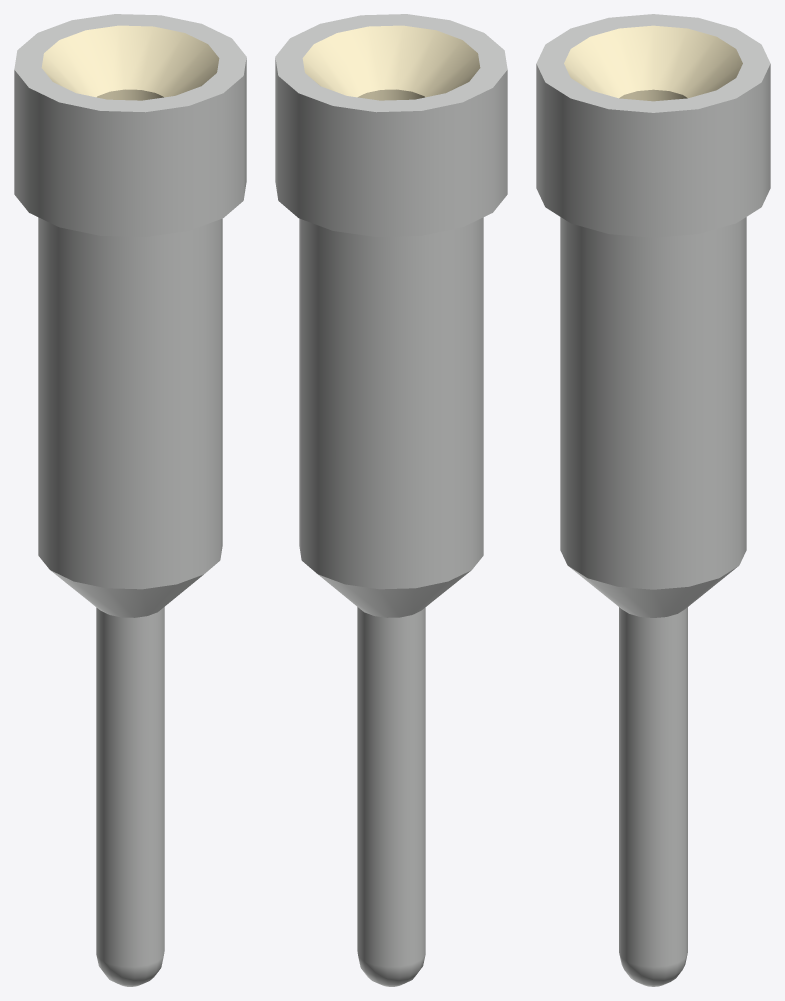
3 views of the same model, side by side, from view 1: azimuth 30°, elevation 25°; view 2: azimuth 150°, elevation 25°; view 3: azimuth 270°, elevation 25° (orthographic).
Visible parts, largest first — view 1: mesh15535, mesh15537, mesh15533, mesh15539, mesh15538, mesh15534, mesh15532, mesh15540; view 2: mesh15535, mesh15537, mesh15533, mesh15539, mesh15538, mesh15534, mesh15532, mesh15540; view 3: mesh15535, mesh15537, mesh15533, mesh15539, mesh15538, mesh15534, mesh15532, mesh15540.
Part boxes in pixels (x1,y1,x2,y2): mesh15535: (38, 217, 222, 589); mesh15537: (14, 58, 246, 236); mesh15533: (96, 607, 164, 966); mesh15539: (41, 25, 219, 97); mesh15538: (14, 14, 246, 112); mesh15534: (50, 570, 203, 617); mesh15532: (96, 955, 163, 986); mesh15540: (97, 89, 163, 100); mesh15535: (299, 217, 483, 589); mesh15537: (275, 58, 507, 236); mesh15533: (357, 607, 425, 966); mesh15539: (302, 25, 480, 97); mesh15538: (275, 14, 507, 112); mesh15534: (318, 570, 471, 617); mesh15532: (358, 955, 425, 986); mesh15540: (358, 89, 424, 100); mesh15535: (560, 217, 746, 589); mesh15537: (536, 64, 770, 237); mesh15533: (619, 607, 687, 966); mesh15539: (564, 25, 742, 98); mesh15538: (536, 14, 770, 112); mesh15534: (568, 566, 738, 617); mesh15532: (619, 954, 687, 986); mesh15540: (619, 89, 687, 101).
Size of the model in its own units: 0.0017 by 0.00737 by 0.0017.
